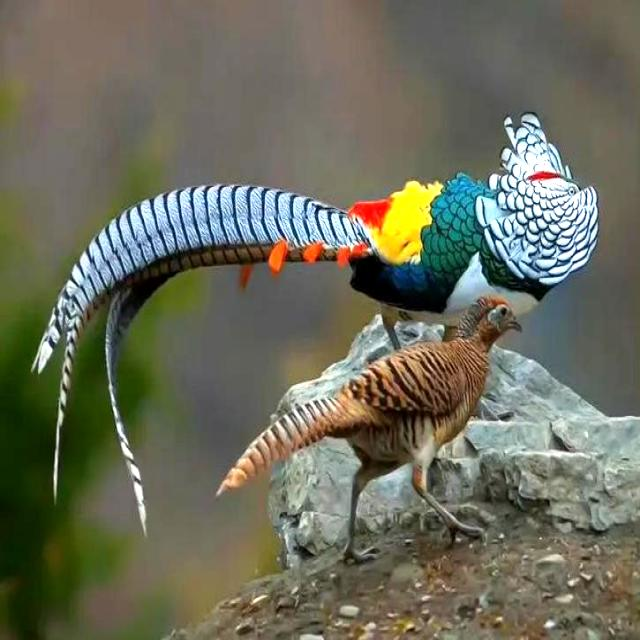Chrysolophus amherstiae: (34, 185, 375, 521)
